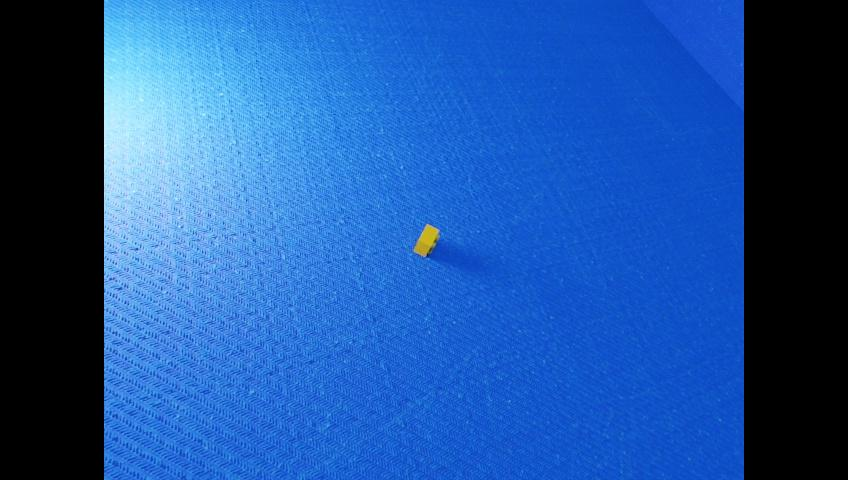2x2_yellow: (413, 223, 439, 256)
